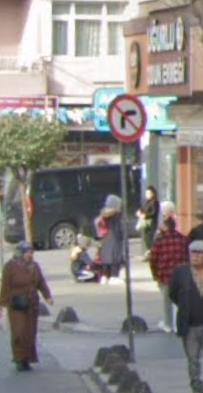rightturnsareforbidden: (109, 96, 144, 139)
